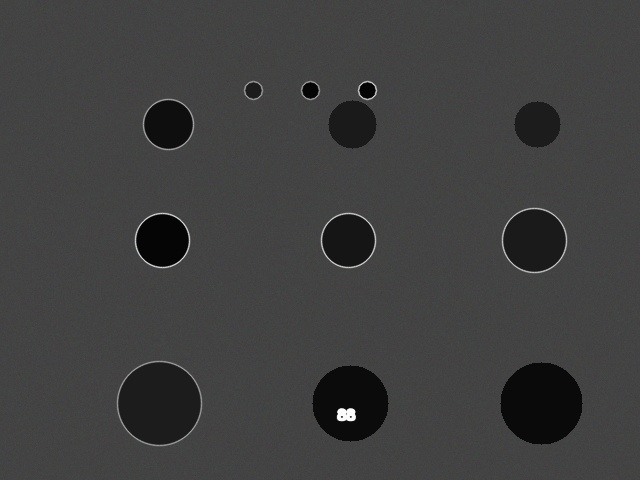hole: (117, 361, 201, 445), (500, 362, 582, 444), (312, 365, 388, 441), (502, 208, 566, 272), (135, 213, 189, 267), (321, 213, 375, 267), (143, 99, 193, 149), (328, 100, 376, 148), (514, 101, 560, 147), (244, 81, 262, 99), (301, 81, 319, 99), (358, 81, 376, 99)
